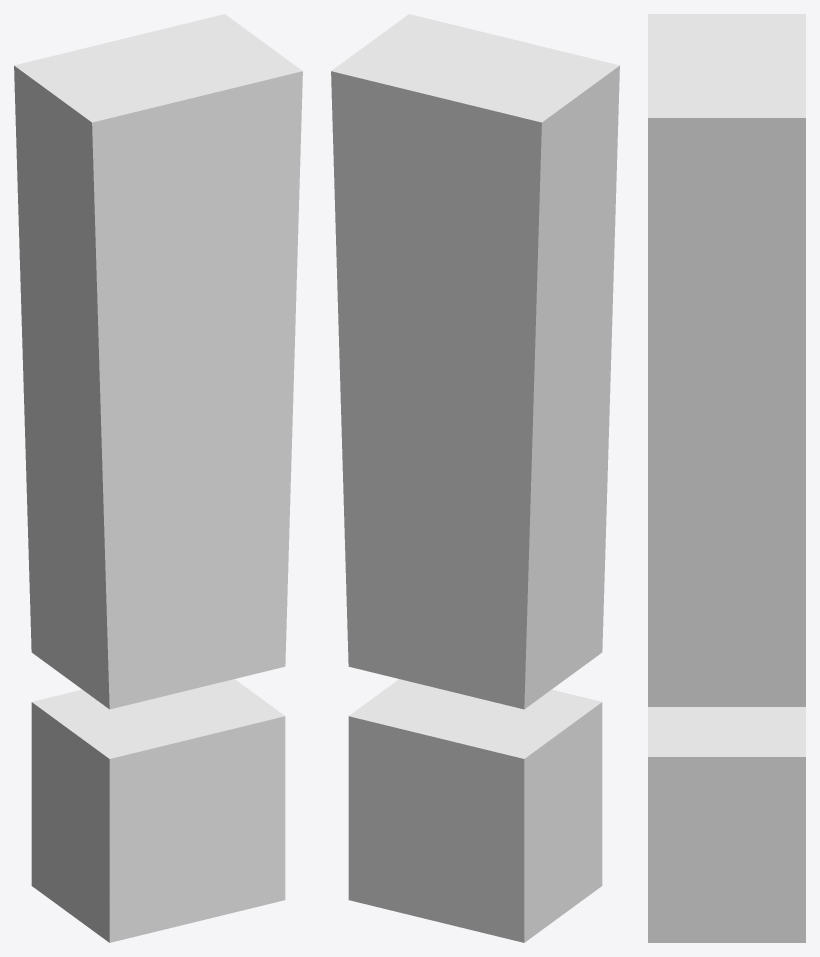
Rendered from white_exclamation_mark.gltf.
3 views of the same model, side by side, from view 1: azimuth 30°, elevation 25°; view 2: azimuth 150°, elevation 25°; view 3: azimuth 270°, elevation 25° (orthographic).
Parts seen in each view (by area): view 1: Cube.6448; view 2: Cube.6448; view 3: Cube.6448.
Boxes of the visible parts, bbox=[...] form: Cube.6448: bbox=[14, 14, 302, 942]; Cube.6448: bbox=[331, 14, 619, 942]; Cube.6448: bbox=[648, 14, 805, 942].
Size of the model in its own units: 0.5869 by 2.19 by 0.3762.
1 material, 1 textured.
